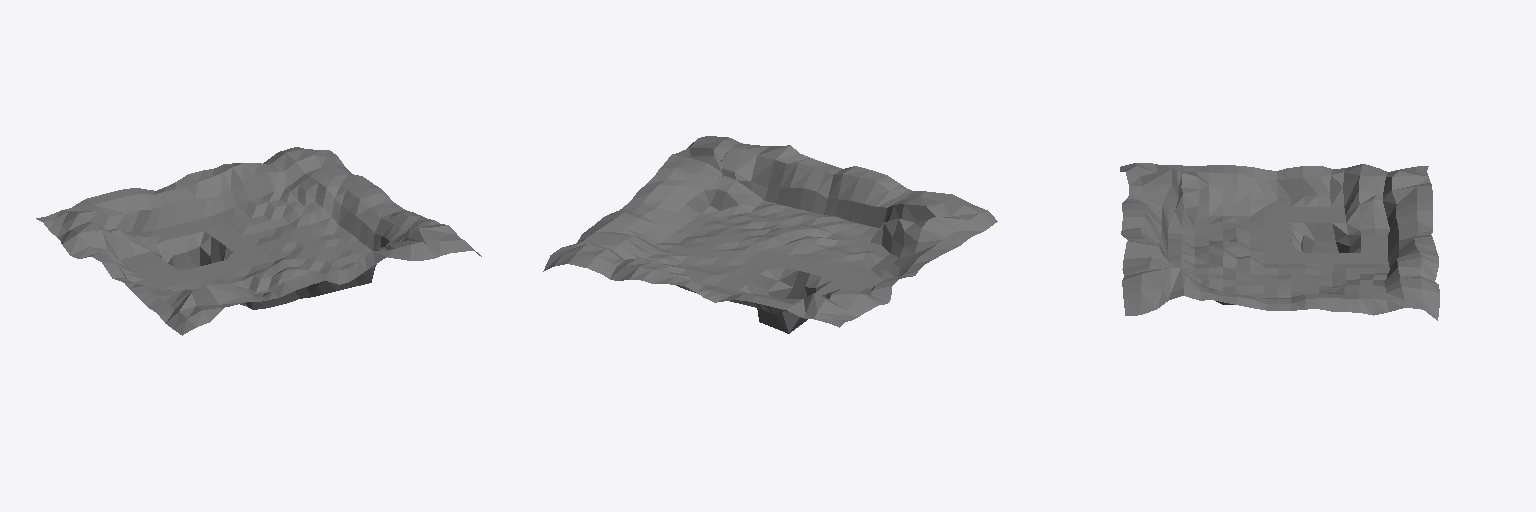
Rendered from terrain.obj.
3 views of the same model, side by side, from view 1: azimuth 30°, elevation 25°; view 2: azimuth 150°, elevation 25°; view 3: azimuth 270°, elevation 25° (orthographic).
Visible parts, largest first — view 1: terrain:pPlane1; view 2: terrain:pPlane1; view 3: terrain:pPlane1.
Part boxes in pixels (x1,y1,x2,y2): terrain:pPlane1: (36,147,481,335); terrain:pPlane1: (543,136,997,333); terrain:pPlane1: (1120,163,1439,320).
Bounding box in the file's own units: 294 × 75.92 × 266.